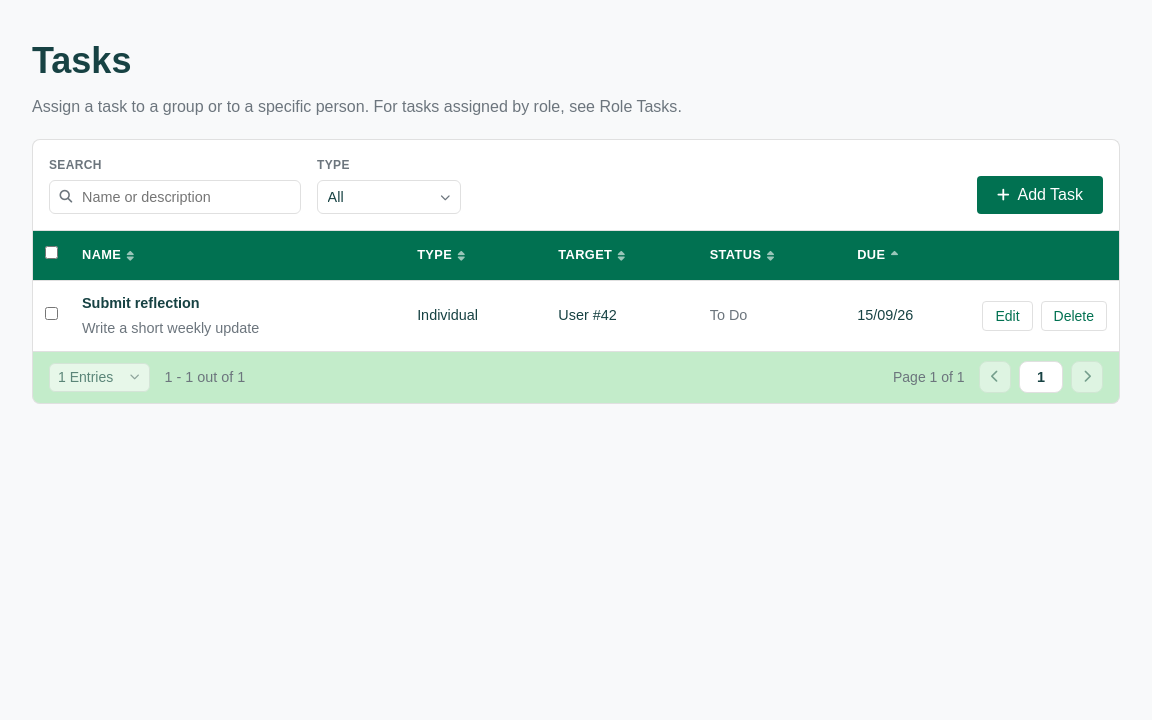
Test: AdminTasksPage › shows individual delete failures inside the open confirmation dialog
The width and height of the screenshot is (1152, 720).
Click the button "Delete" at (1074, 316), box [1040, 301, 1107, 331]
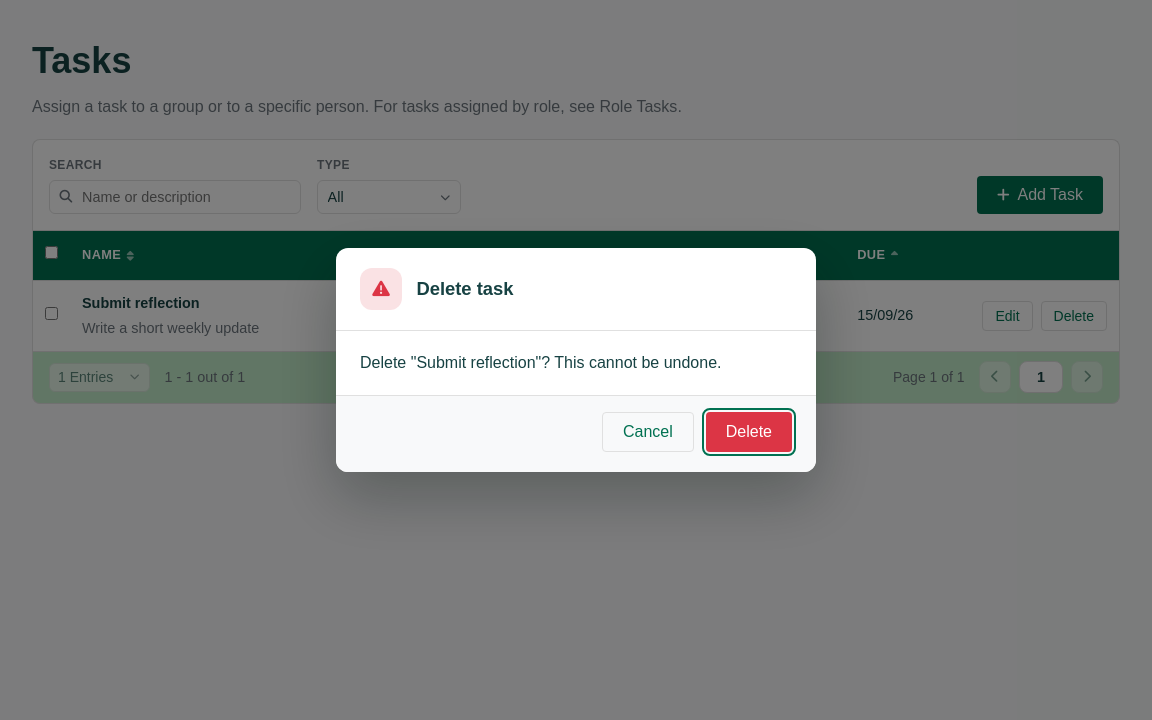
Click the button "Delete" at (749, 432), box [706, 412, 792, 452]
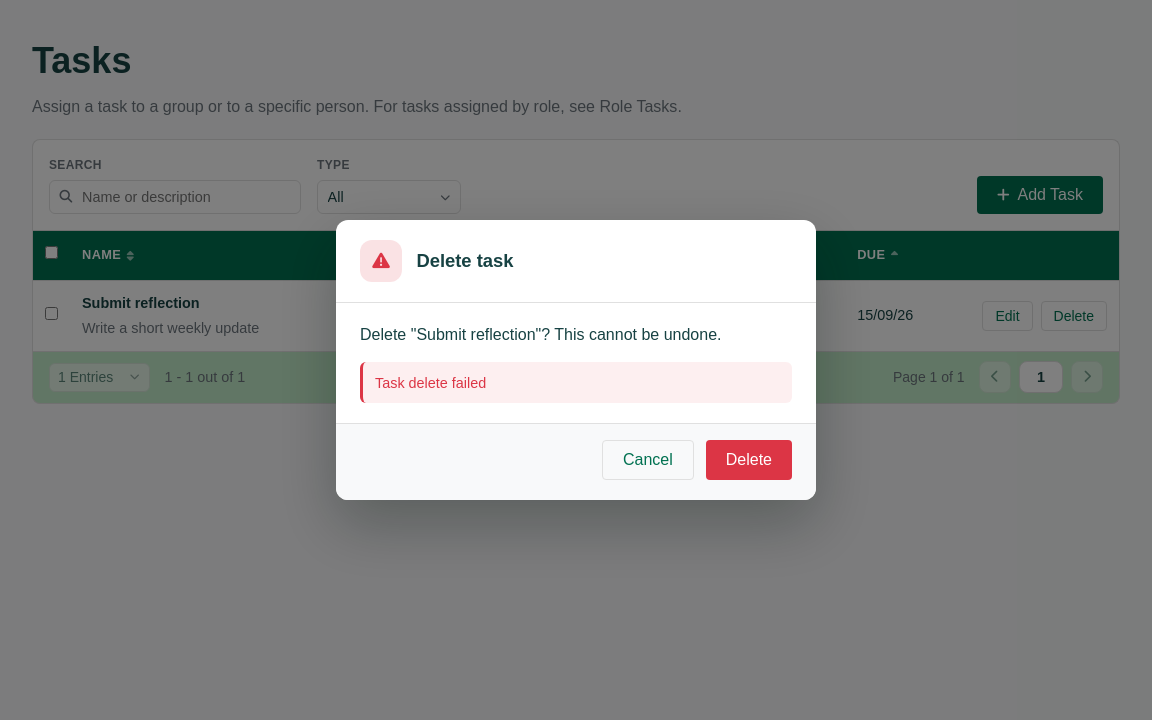
Result: the text "Delete task" is shown at [416, 249, 514, 273]
Result: the text "Delete \"Submit reflection\"? This cannot be undone." is shown at [360, 326, 722, 343]
Result: the message with class "admin-tasks__dialog-error" reads "Task delete failed" at [375, 374, 486, 390]
